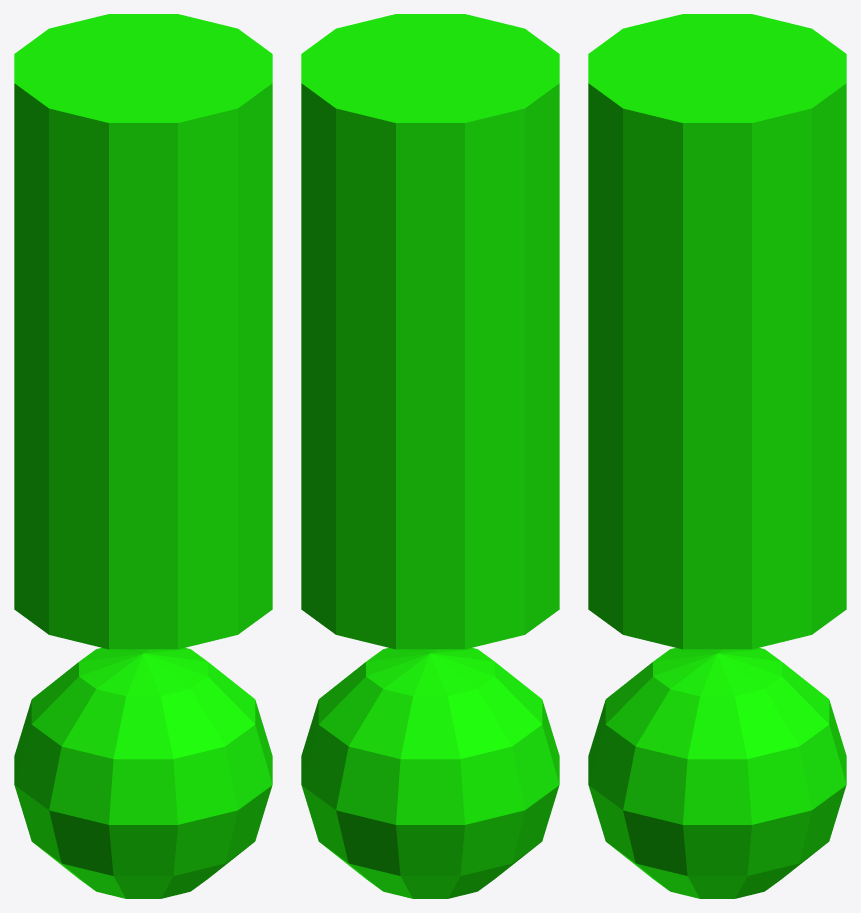
File: exclamation_sign.gltf
The picture shows the model from 3 angles, left to right: view 1: azimuth 30°, elevation 25°; view 2: azimuth 150°, elevation 25°; view 3: azimuth 270°, elevation 25°; orthographic projection.
Visible parts, largest first — view 1: cylinder, sphere; view 2: cylinder, sphere; view 3: cylinder, sphere.
Part boxes in pixels (x1,y1,x2,y2): cylinder: (14,14,272,649); sphere: (14,648,272,898); cylinder: (301,14,559,649); sphere: (301,648,559,898); cylinder: (588,14,846,649); sphere: (588,648,846,898).
Size of the model in its own units: 1 by 3.5 by 1.
1 material, 1 textured.
